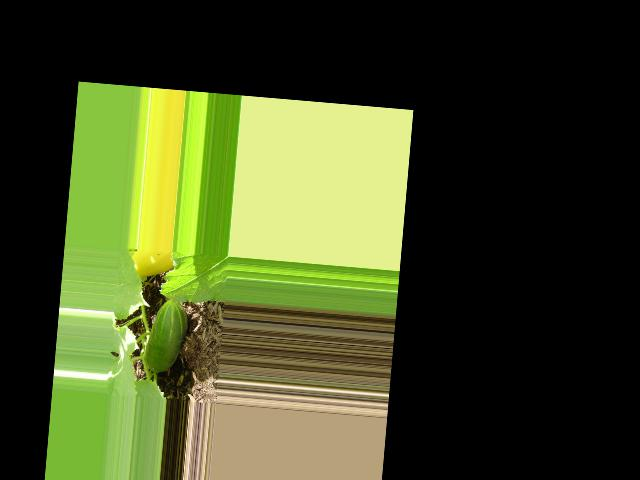cucumber: (143, 297, 190, 375)
